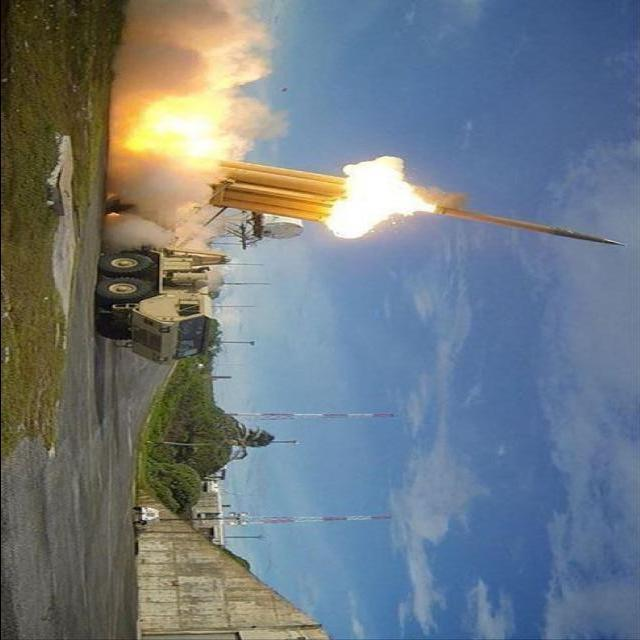missile: (430, 195, 628, 258)
